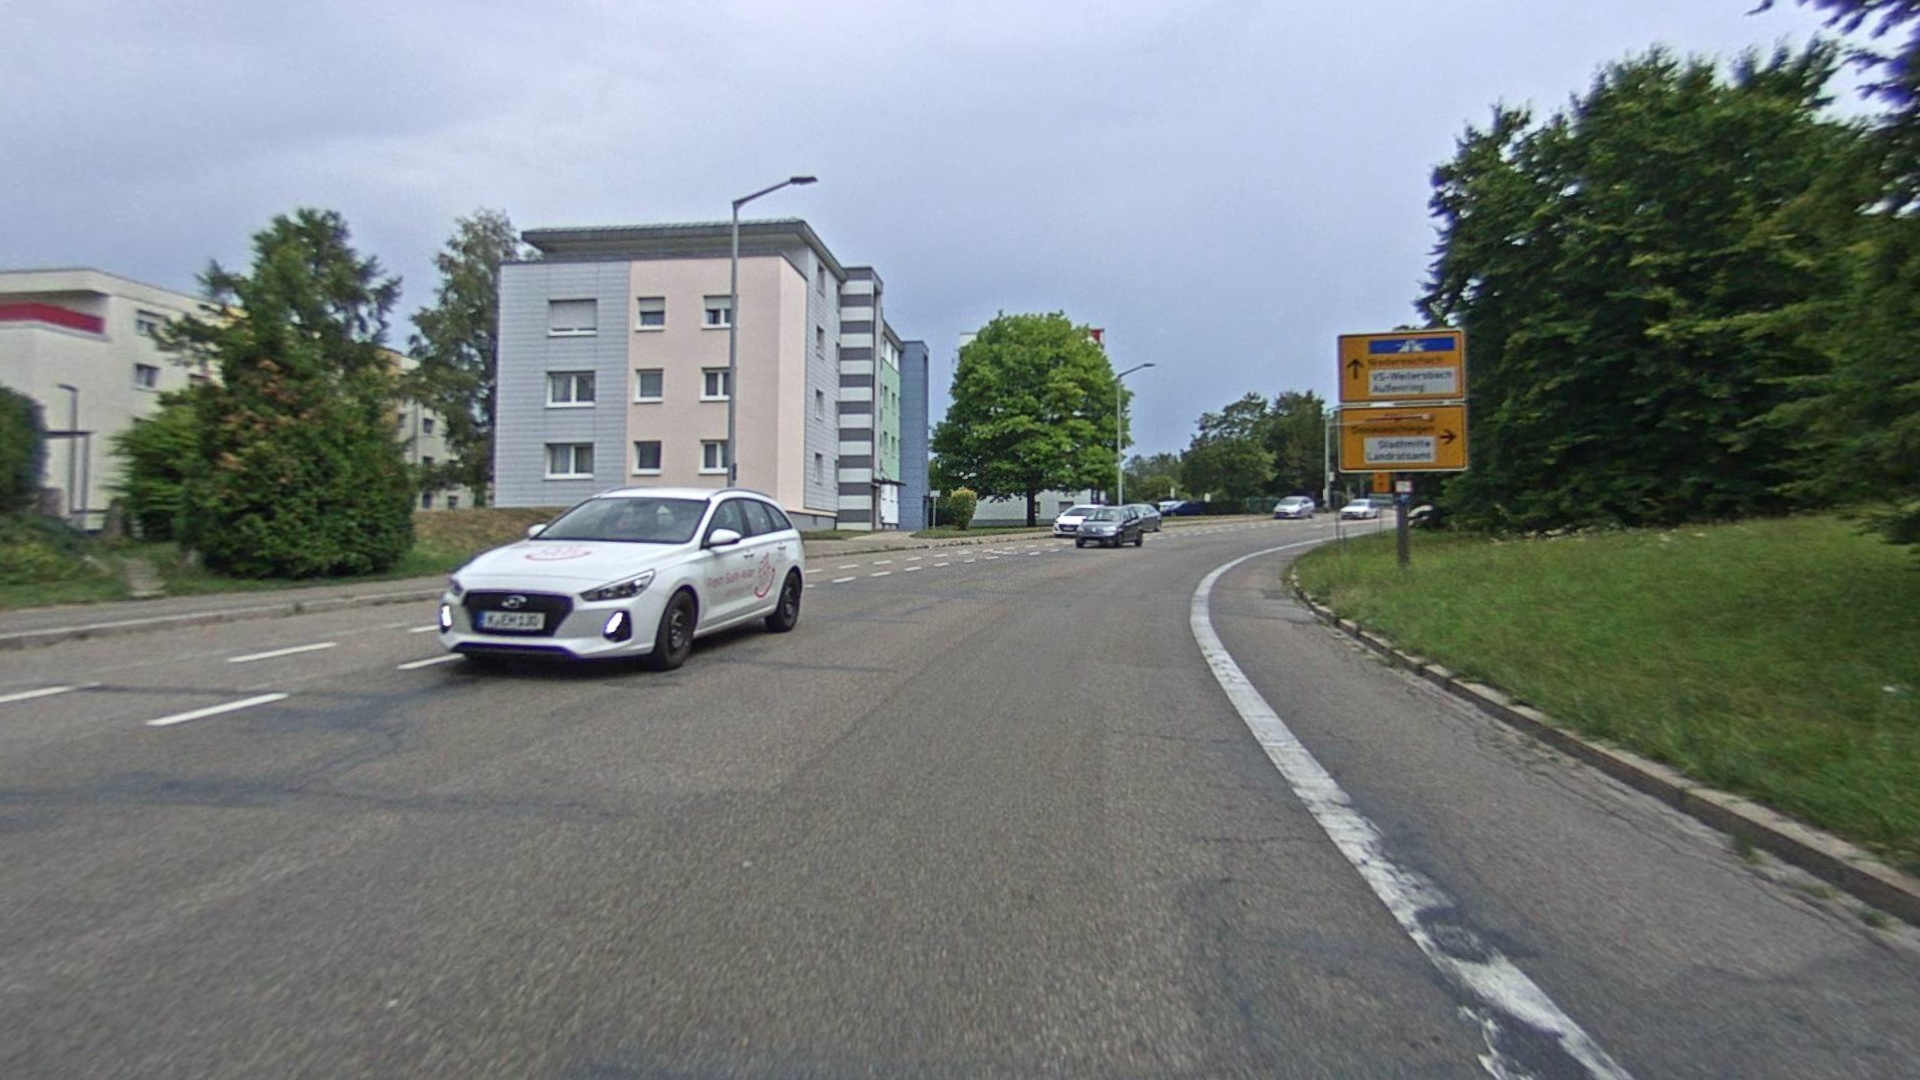car: (433, 483, 810, 678)
